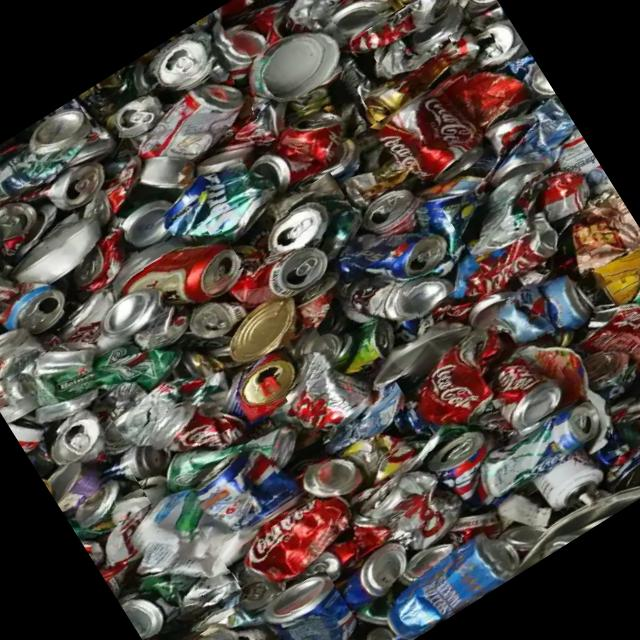Cans: (332, 76, 496, 228), (440, 156, 608, 304), (344, 195, 484, 328), (190, 236, 328, 360), (112, 520, 247, 640), (250, 74, 384, 192), (126, 62, 257, 178), (126, 214, 252, 332), (492, 397, 622, 511), (380, 522, 510, 632), (0, 96, 117, 215), (233, 0, 360, 107), (463, 36, 574, 158), (453, 347, 576, 452), (117, 9, 240, 113), (220, 496, 342, 596), (359, 0, 486, 94), (321, 254, 426, 362), (190, 436, 294, 539), (228, 322, 338, 415), (395, 332, 501, 428), (312, 398, 421, 491), (20, 315, 120, 407), (284, 348, 384, 439), (0, 268, 77, 386), (46, 193, 140, 289), (268, 170, 364, 262), (36, 390, 128, 480), (496, 263, 588, 347), (59, 457, 150, 541), (347, 468, 436, 550), (180, 152, 266, 236), (274, 566, 371, 640), (576, 206, 640, 305), (152, 383, 231, 458), (420, 428, 490, 497), (169, 604, 300, 640), (600, 298, 640, 395), (447, 13, 504, 72), (319, 0, 437, 26), (0, 181, 26, 293)
